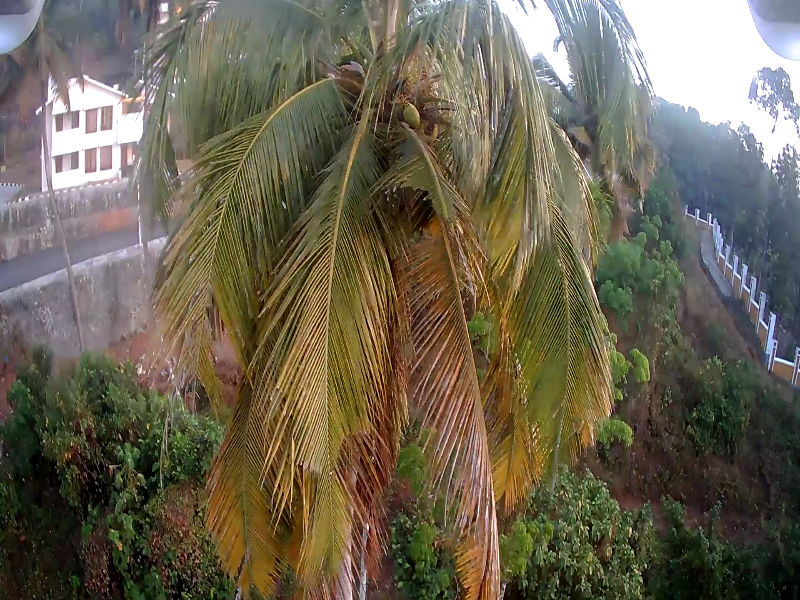coconut: (405, 102, 419, 130)
